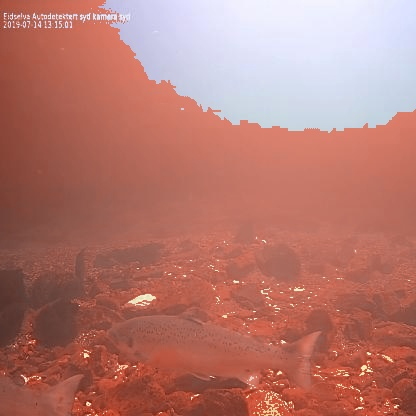salmon: (102, 302, 325, 396)
